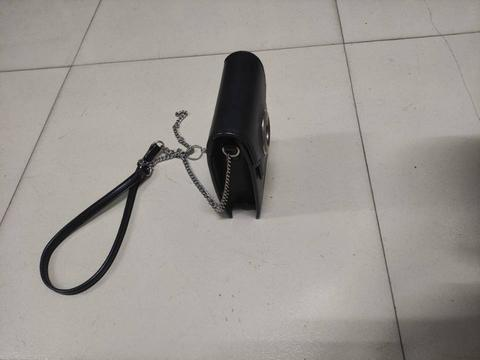bag: (39, 58, 278, 311)
